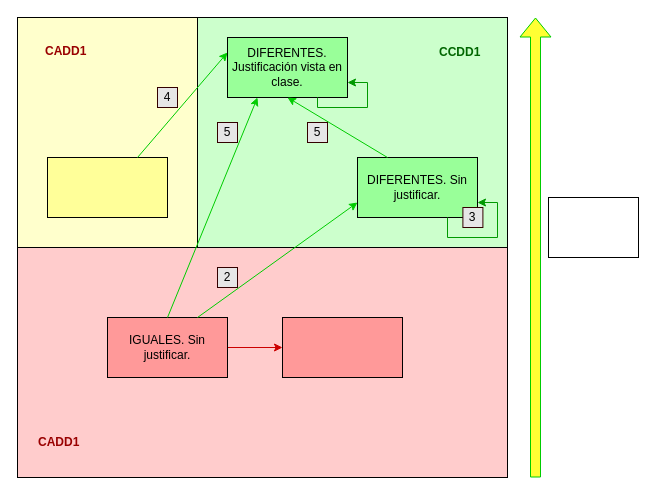
Some shapes in this 656 by 495 pixel diagram are drawn without their labels. The shapes that lost their labels are listed below. From the top down, each one's centre as x and y in pixels, then its label:
At point (107, 187): "IGUALES. Justificación razonable.".
At point (593, 227): "CORRECCIÓN DE LAS RESPUESTAS".
At point (342, 347): "NS / NC".
